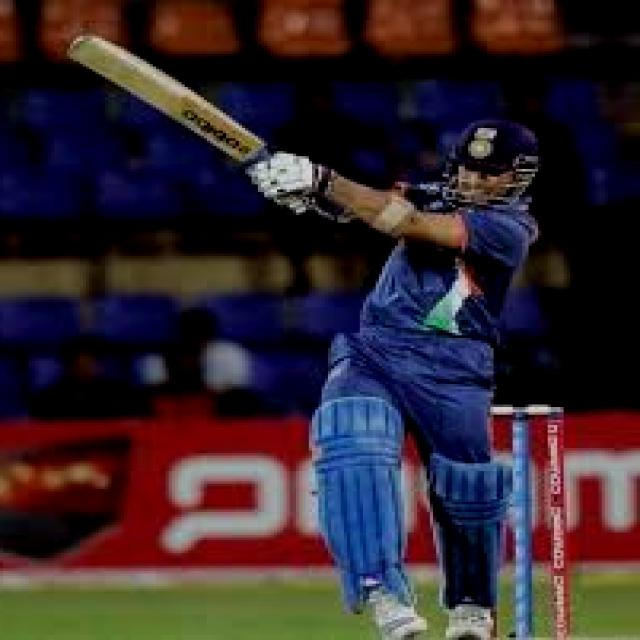toe: (55, 33, 138, 82)
